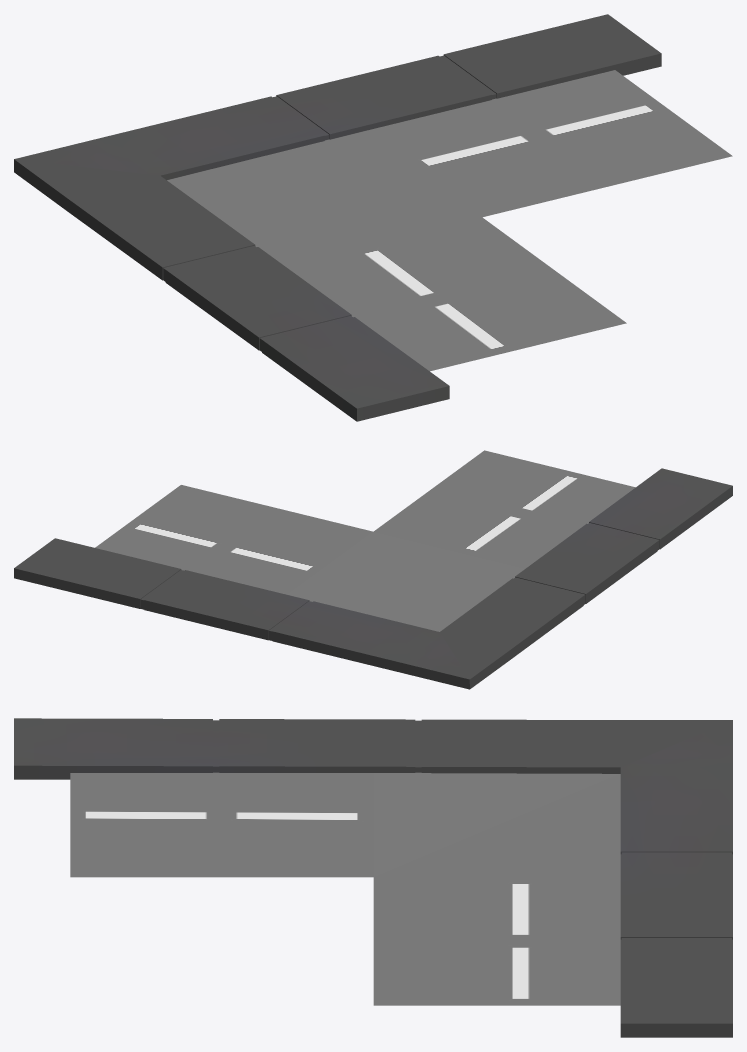
The model's file is YOL_KIVRIM.fbx.
The picture shows the model from 3 angles, top to bottom: view 1: azimuth 30°, elevation 25°; view 2: azimuth 150°, elevation 25°; view 3: azimuth 270°, elevation 25°; orthographic projection. The views are drawn at different scales.
Visible parts, largest first — view 1: Plane.008, Plane.007; view 2: Plane.008, Plane.007; view 3: Plane.008, Plane.007.
Part boxes in pixels (<box>): Plane.008: <box>167,70,732,371</box>; Plane.007: <box>14,14,661,421</box>; Plane.008: <box>95,450,635,631</box>; Plane.007: <box>14,468,732,689</box>; Plane.008: <box>70,772,620,1005</box>; Plane.007: <box>14,718,732,1037</box>.
Size of the model in its own units: 474 by 11.31 by 474.
